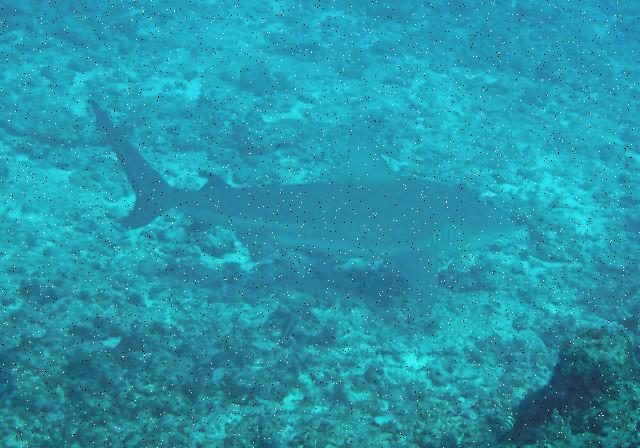Sirip Anal: (182, 164, 230, 244)
Sirip Dada: (388, 233, 442, 326)
Sirip Ekor: (75, 88, 167, 242)
Sirip Perut: (235, 223, 281, 271)
Sirip Punggung: (320, 119, 398, 191)
